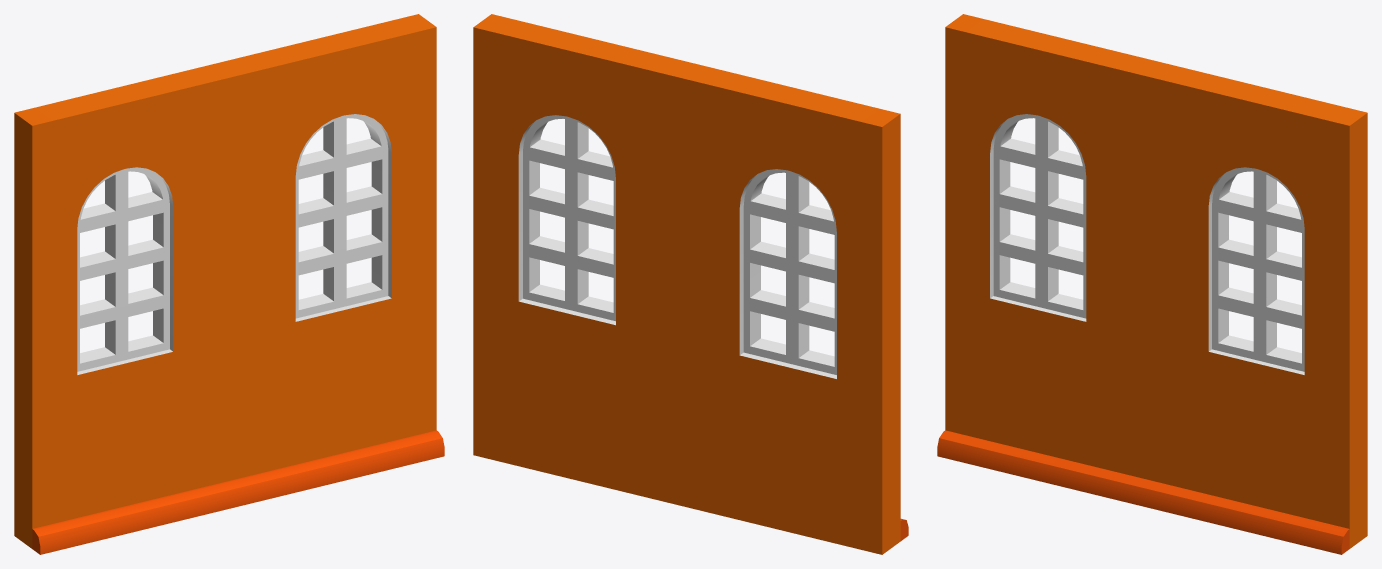
File: O_Wall004.fbx
The picture shows the model from 3 angles, left to right: view 1: azimuth 30°, elevation 25°; view 2: azimuth 150°, elevation 25°; view 3: azimuth 330°, elevation 25°; orthographic projection.
Parts seen in each view (by area): view 1: Wall004.001; view 2: Wall004.001; view 3: Wall004.001.
Boxes of the visible parts, box(x1,y1,x2,y2) form: Wall004.001: box(14, 14, 444, 554); Wall004.001: box(473, 14, 908, 554); Wall004.001: box(937, 14, 1367, 554).
Bounding box in the file's own units: 250 × 250 × 27.87.
1 material, 1 textured.
